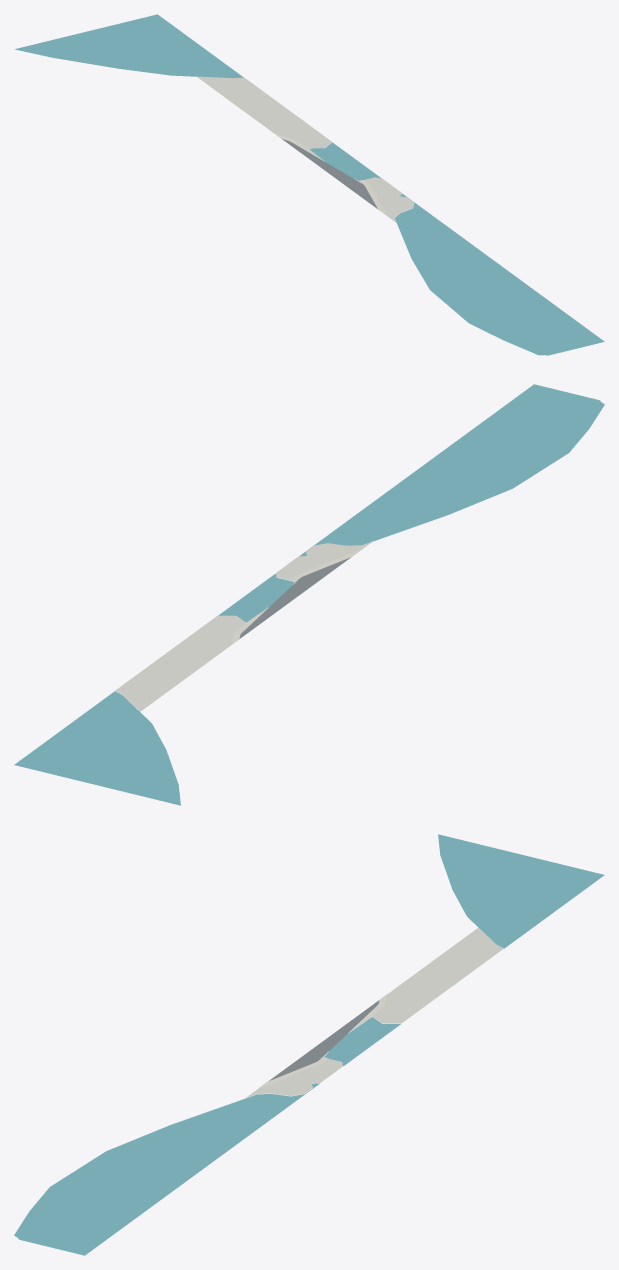
3 views of the same model, one above another, from view 1: azimuth 30°, elevation 25°; view 2: azimuth 150°, elevation 25°; view 3: azimuth 330°, elevation 25° (orthographic). The views are drawn at different scales.
Parts seen in each view (by area): view 1: city; view 2: city; view 3: city.
Boxes of the visible parts, x1,y1,x2,y2 form: city: (14,14,604,355); city: (14,384,604,805); city: (14,834,604,1255).
Bounding box in the file's own units: 92.66 × 0.4 × 500.
